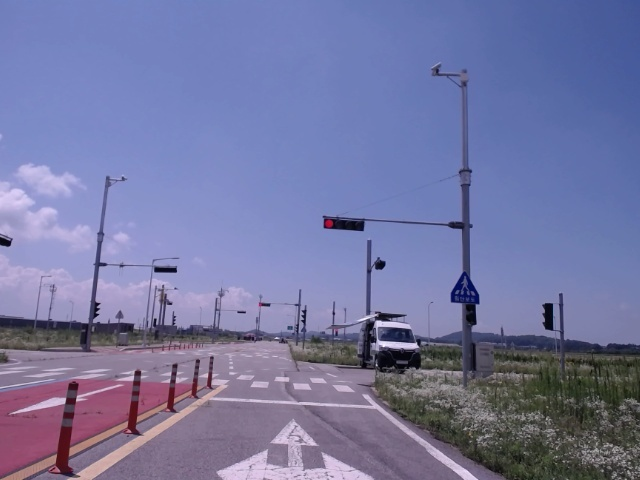red_4: (324, 218, 364, 230)
